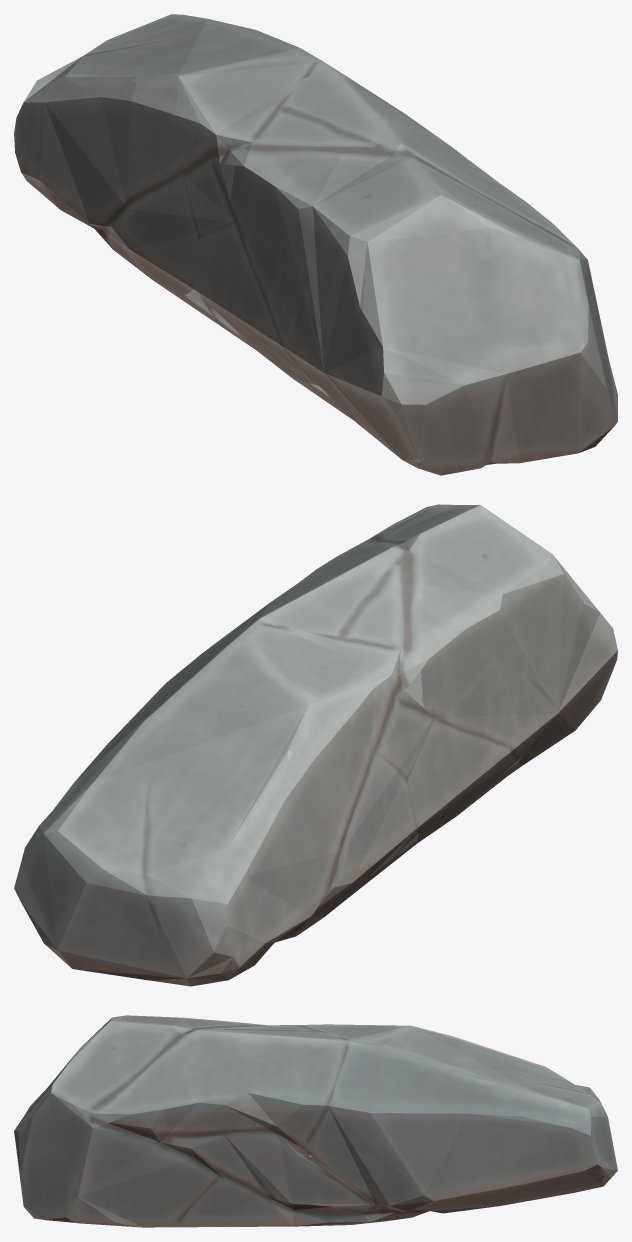
The model's file is ROK0110017.fbx.
3 renders of one model, top to bottom at view 1: azimuth 30°, elevation 25°; view 2: azimuth 150°, elevation 25°; view 3: azimuth 270°, elevation 25°, orthographic. The views are drawn at different scales.
Visible parts, largest first — view 1: smROK0110017; view 2: smROK0110017; view 3: smROK0110017.
Boxes of the visible parts, <box> form: smROK0110017: <box>14,14,617,475</box>; smROK0110017: <box>14,504,617,986</box>; smROK0110017: <box>14,1015,617,1227</box>.
Size of the model in its own units: 47.48 by 44.16 by 147.
Materials: 1 (1 with a texture image).
